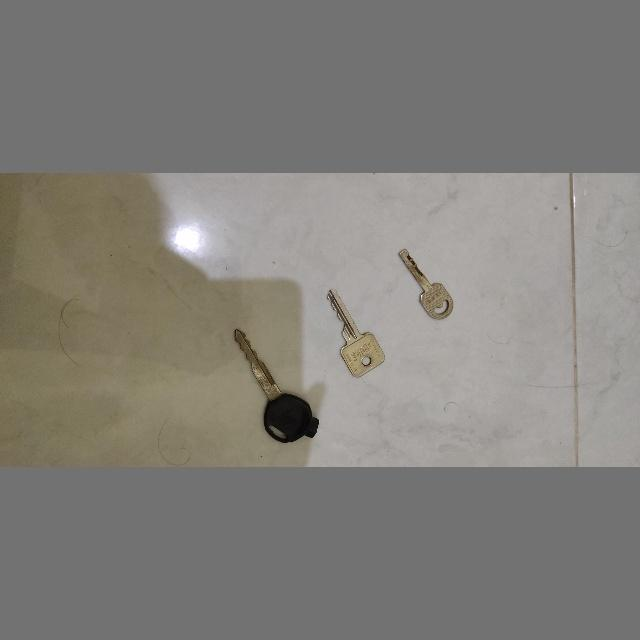Keys: (230, 326, 322, 446), (326, 286, 392, 380), (397, 246, 457, 322)
